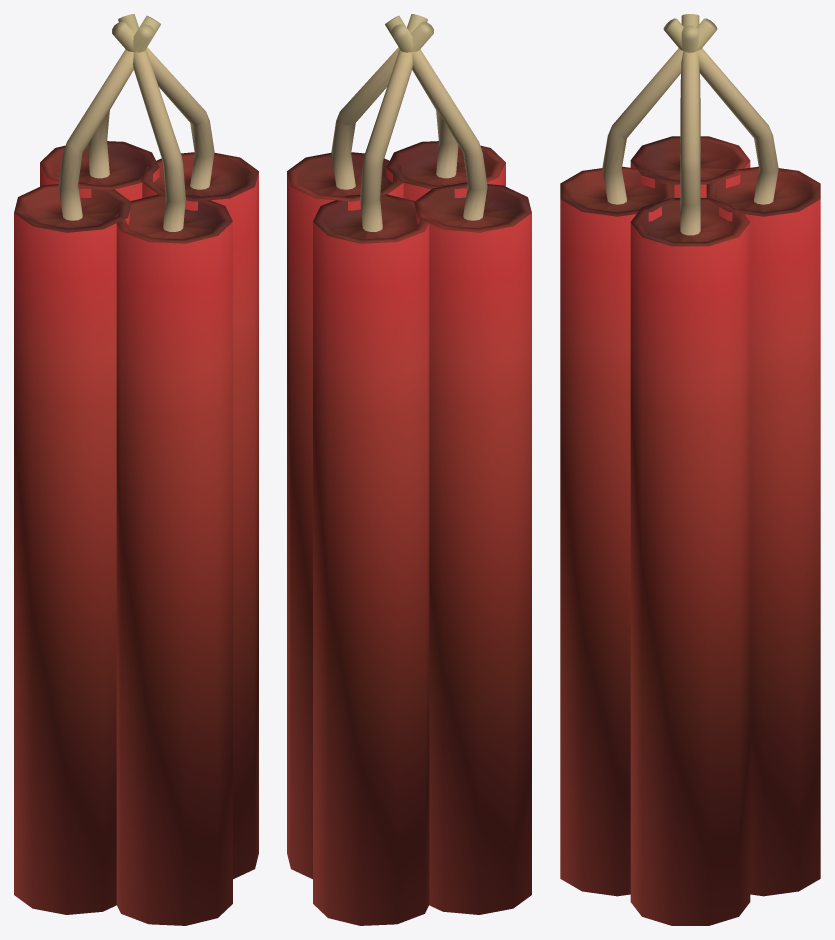
Rendered from ddd917d8-a660-4099-86d7-cce59e8ea52a.glb.
The picture shows the model from 3 angles, left to right: view 1: azimuth 30°, elevation 25°; view 2: azimuth 150°, elevation 25°; view 3: azimuth 270°, elevation 25°; orthographic projection.
Visible parts, largest first — view 1: BundleOfDynamite; view 2: BundleOfDynamite; view 3: BundleOfDynamite.
Part boxes in pixels (left/top/right/bottom): BundleOfDynamite: left=14, top=14, right=258, bottom=925; BundleOfDynamite: left=287, top=14, right=531, bottom=925; BundleOfDynamite: left=560, top=14, right=820, bottom=925.
Bounding box in the file's own units: 0.0868 × 0.3131 × 0.0868.
1 material, 1 textured.
